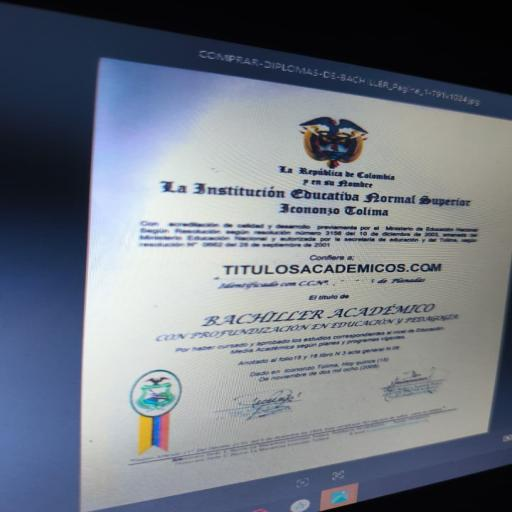bachillerato: (180, 295, 446, 333)
diploma: (78, 59, 511, 512)
escudo: (270, 108, 389, 175)
firma: (348, 359, 462, 411), (211, 381, 313, 429)
institucion: (149, 172, 493, 229)
